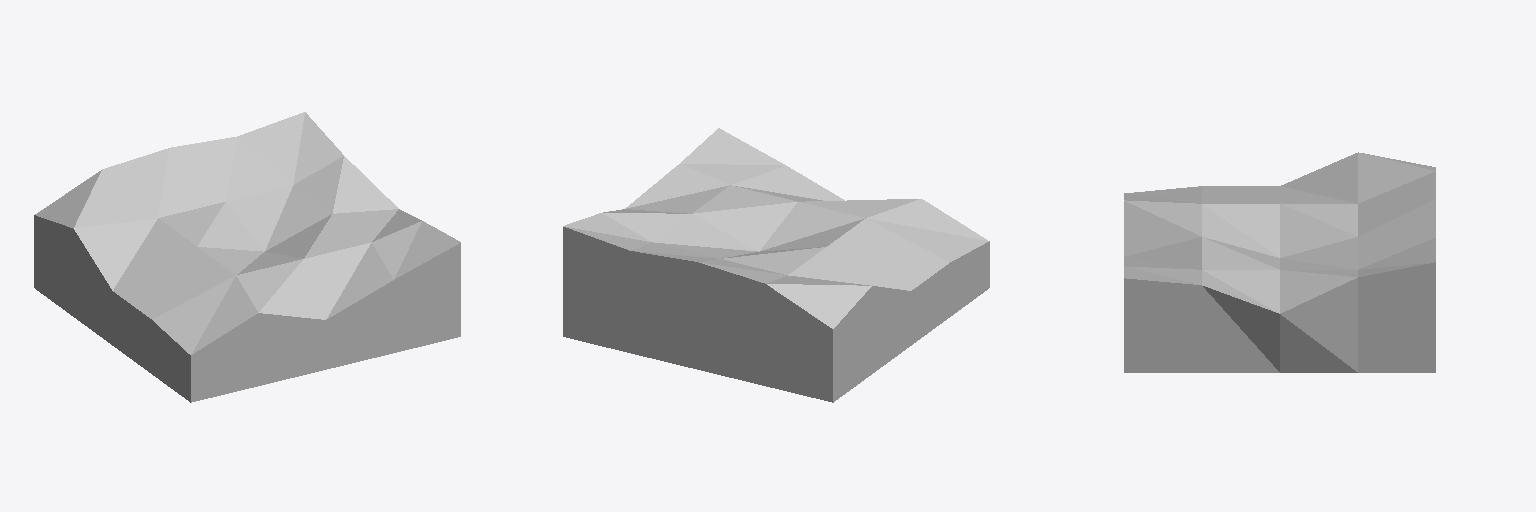
File: bare-cube.obj
The picture shows the model from 3 angles: view 1: azimuth 30°, elevation 25°; view 2: azimuth 150°, elevation 25°; view 3: azimuth 270°, elevation 25°; orthographic projection.
Parts seen in each view (by area): view 1: Cube; view 2: Cube; view 3: Cube.
Boxes of the visible parts, x1,y1,x2,y2 form: Cube: [34, 112, 460, 402]; Cube: [563, 128, 989, 402]; Cube: [1124, 152, 1435, 372].
Size of the model in its own units: 1.06 by 0.3949 by 1.